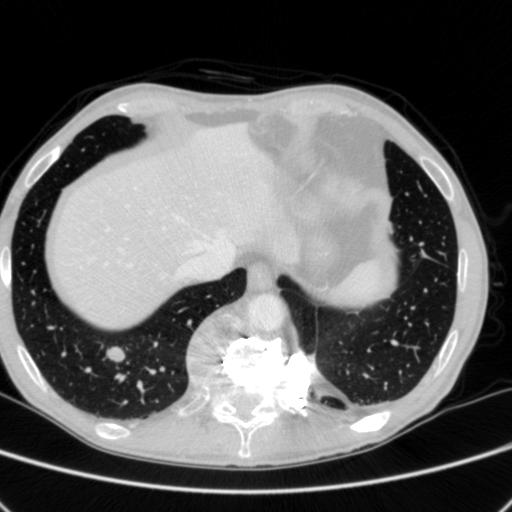nodule: (106, 344, 127, 365)
